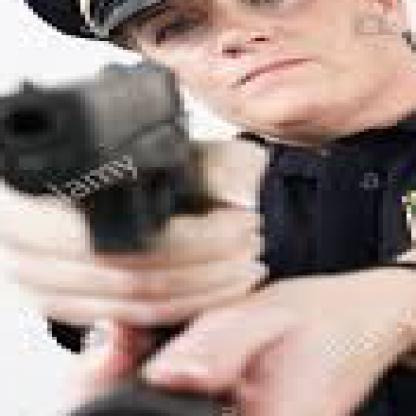gun: (0, 50, 227, 275)
